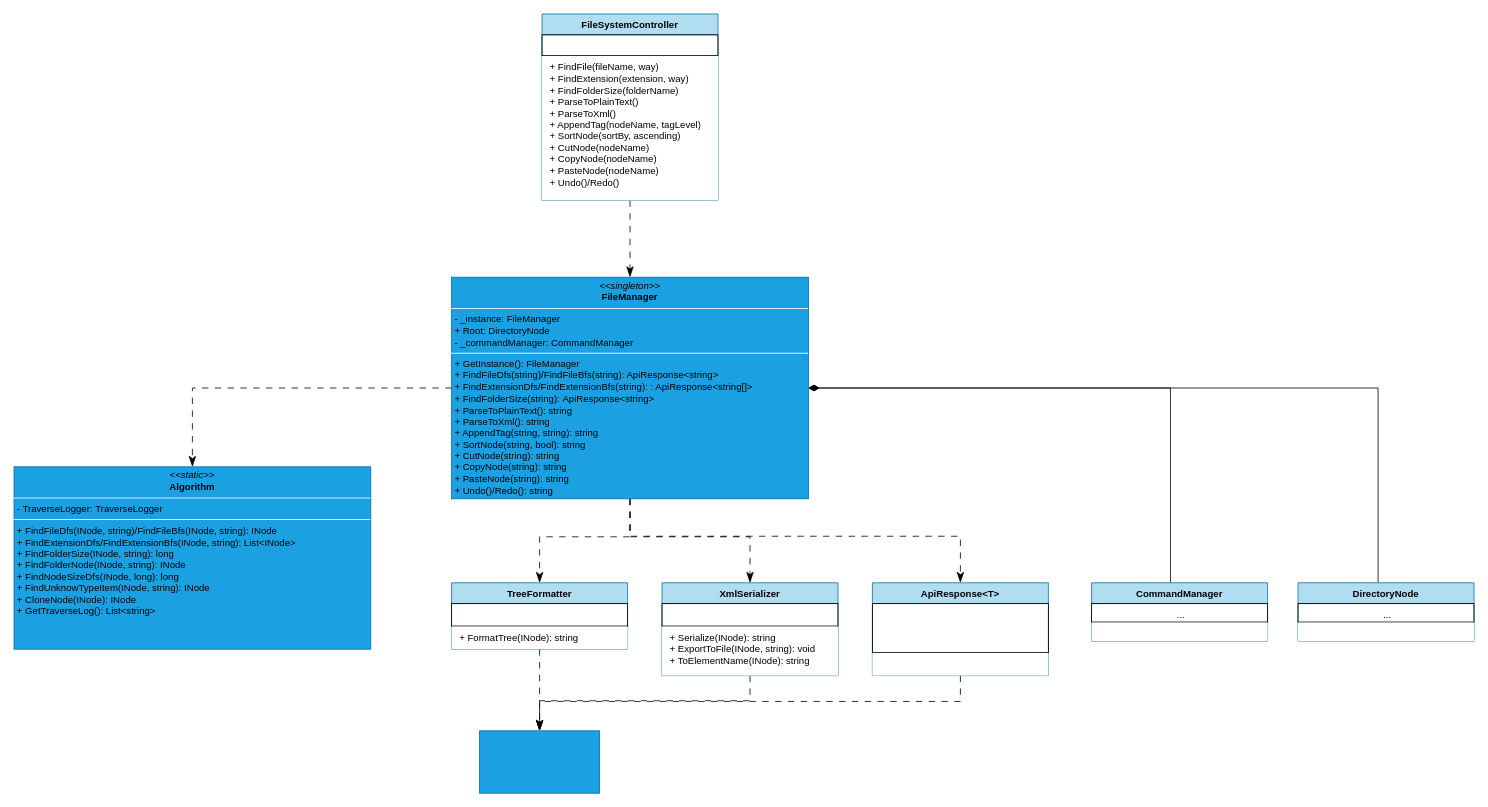
The diagram is 1488 pixels wide and 807 high, and some of its shapes have lost their labels. Each missing label, with the centre of its shape:
+ Result: T + TraverseLog: List<string>: the point at 960,627
<<interface>> INode ...: the point at 539,761
